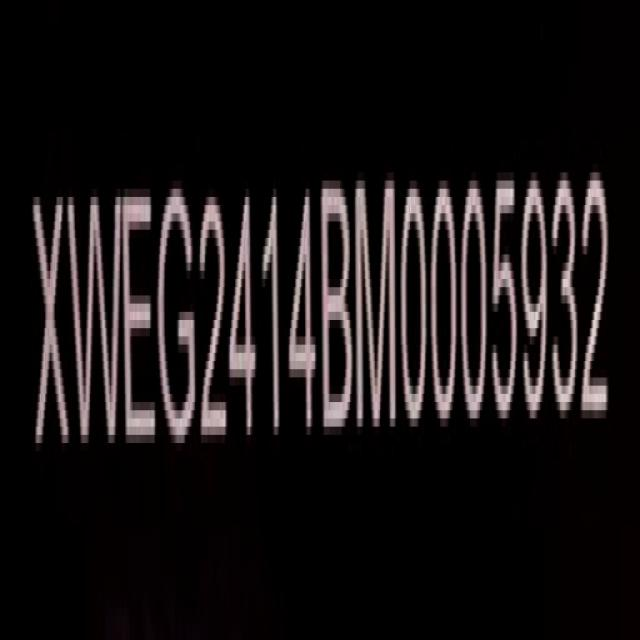0: (400, 182, 431, 434), (431, 182, 459, 430), (460, 178, 486, 428)
1: (260, 184, 282, 446)
2: (200, 194, 231, 453), (585, 168, 612, 422)
3: (554, 172, 581, 422)
4: (291, 179, 322, 445), (228, 188, 256, 455)
5: (493, 170, 520, 424)
9: (521, 179, 549, 423)
B: (323, 180, 354, 443)
E: (125, 187, 158, 456)
G: (157, 180, 196, 452)
M: (354, 175, 400, 441)
W: (67, 182, 122, 450)
X: (34, 188, 70, 465)
